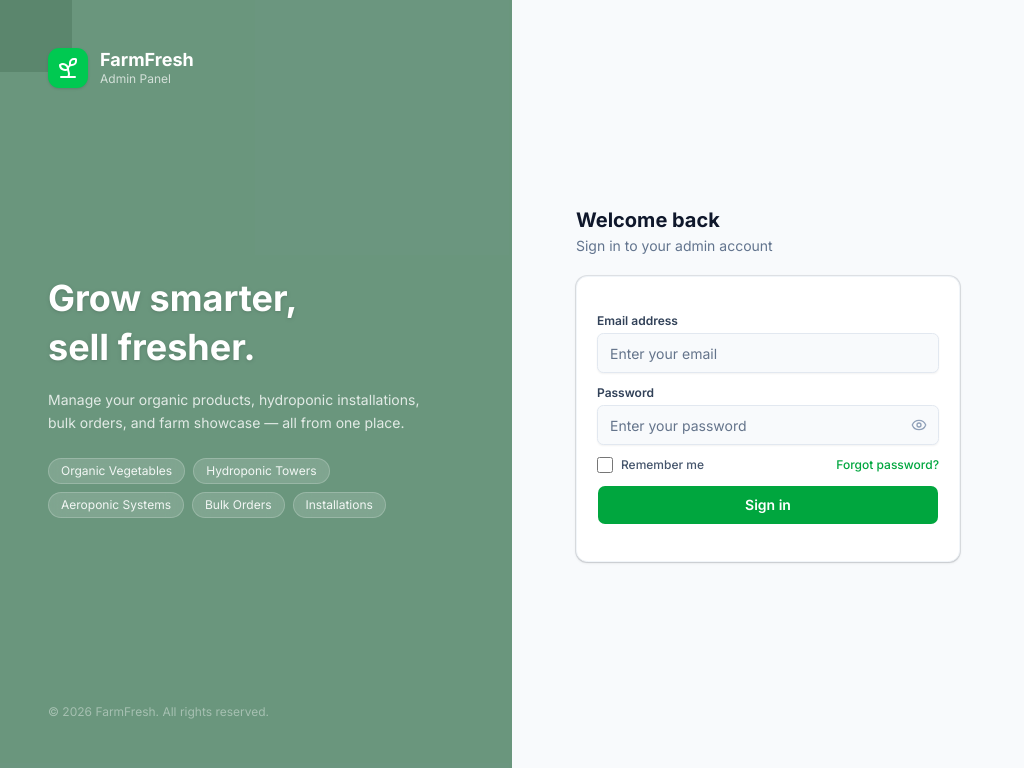
Test: AdminLoginPage › disables the submit button while loading
The width and height of the screenshot is (1024, 768).
Type "admin@farmfresh.com" into the field with placeholder "Enter your email" at (768, 353), box [597,333,939,373]
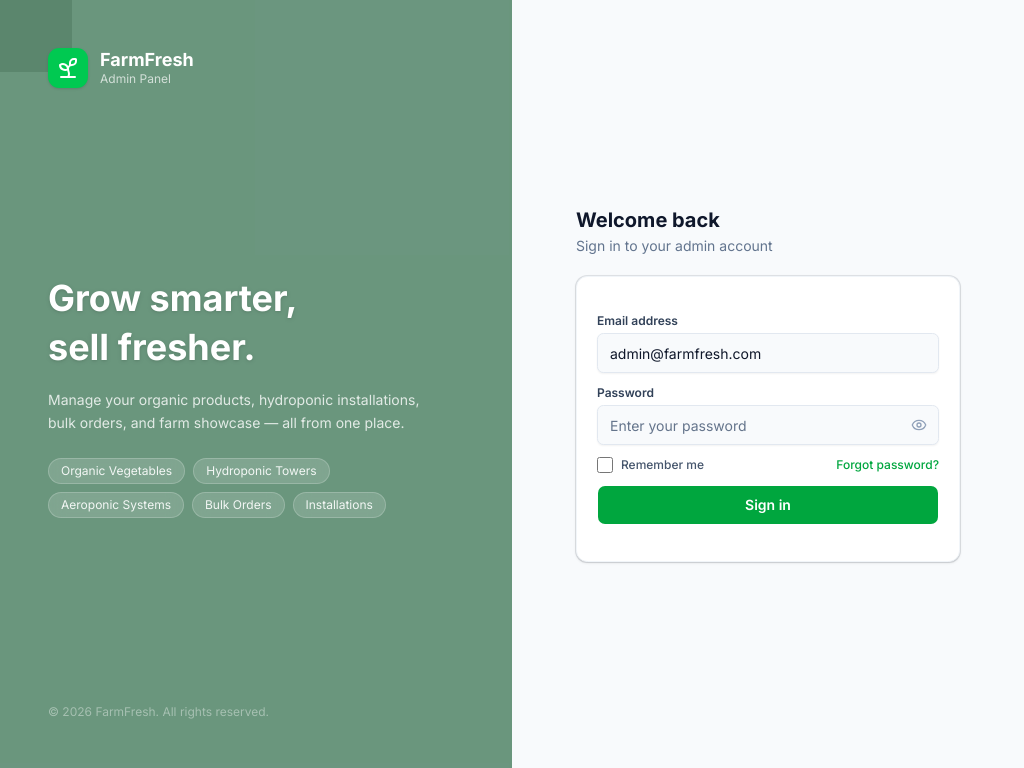
Type "secret123" into the password field with placeholder "Enter your password" at (768, 425), box [597,405,939,445]
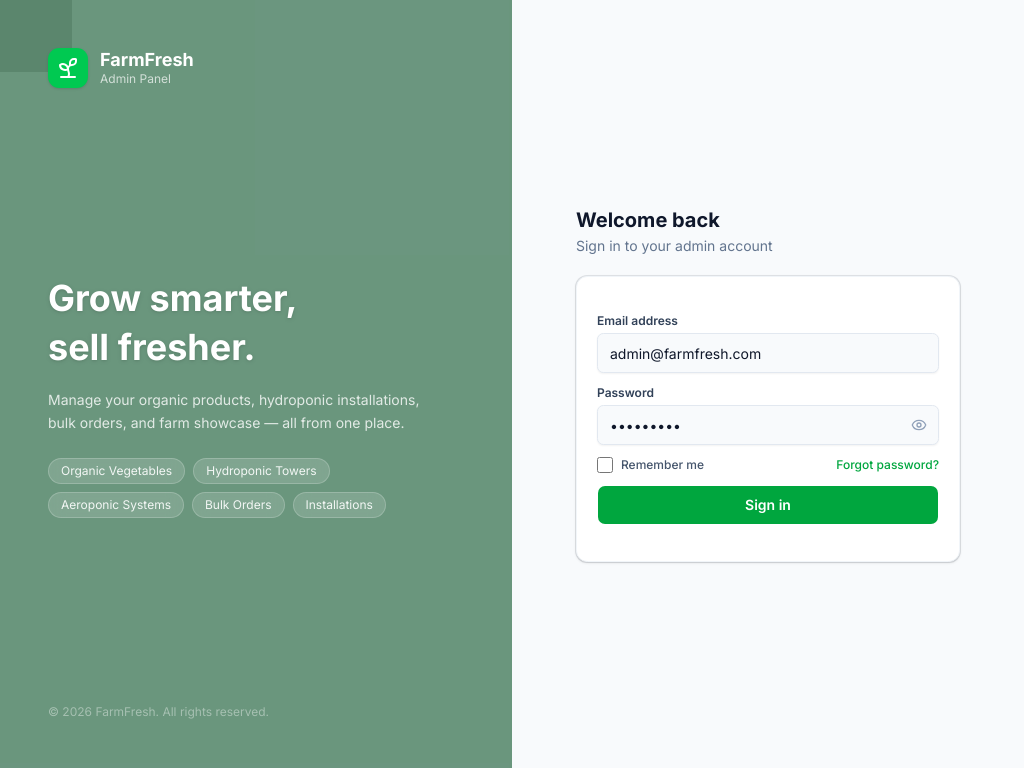
Submit the form with placeholder "Enter your email", box [597,313,939,525]
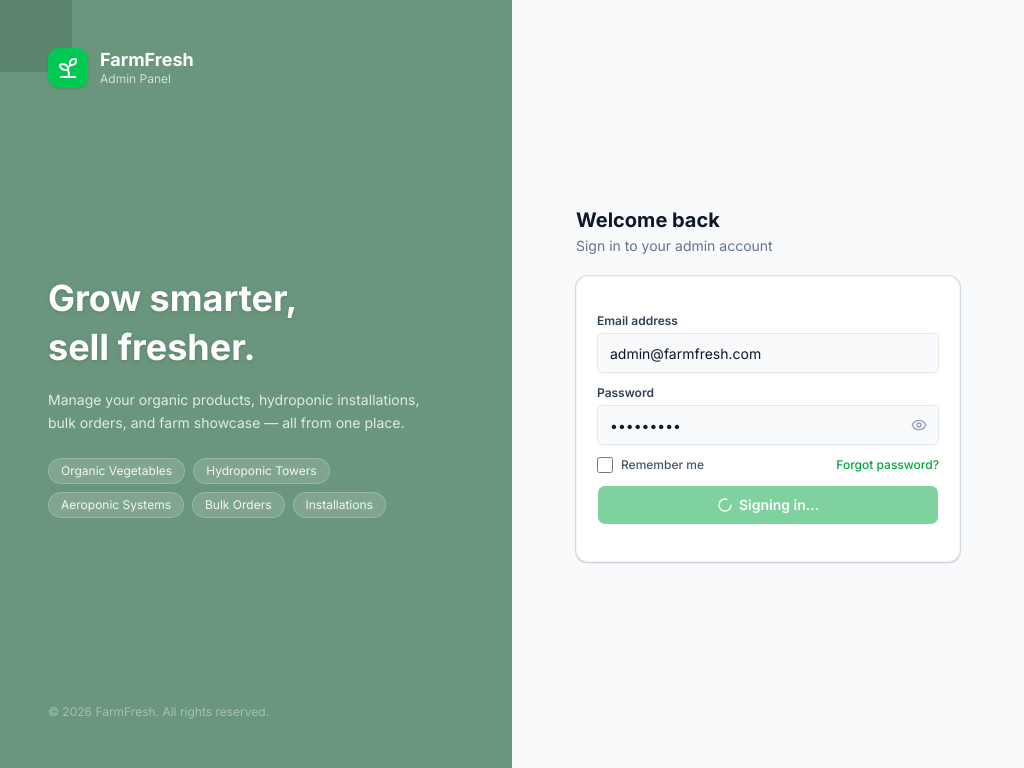
Result: the button "Signing in..." is disabled at [597,485,939,525]
